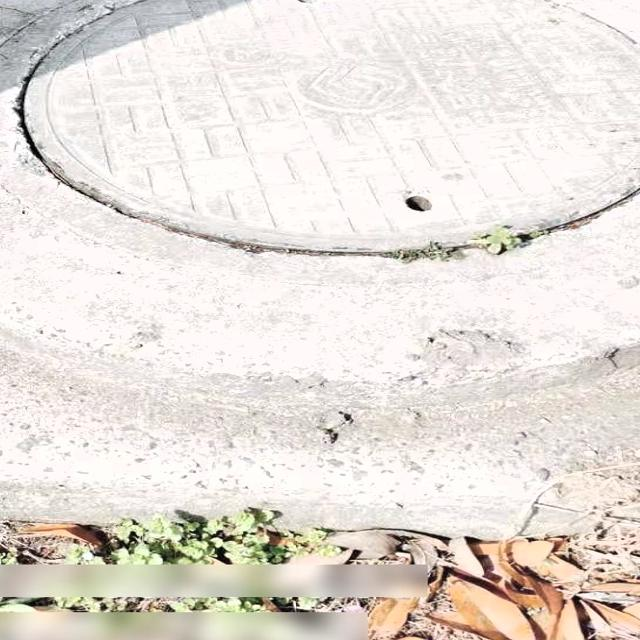good: (0, 0, 640, 279)
